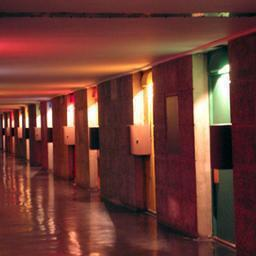Puerta: (210, 73, 236, 243)
